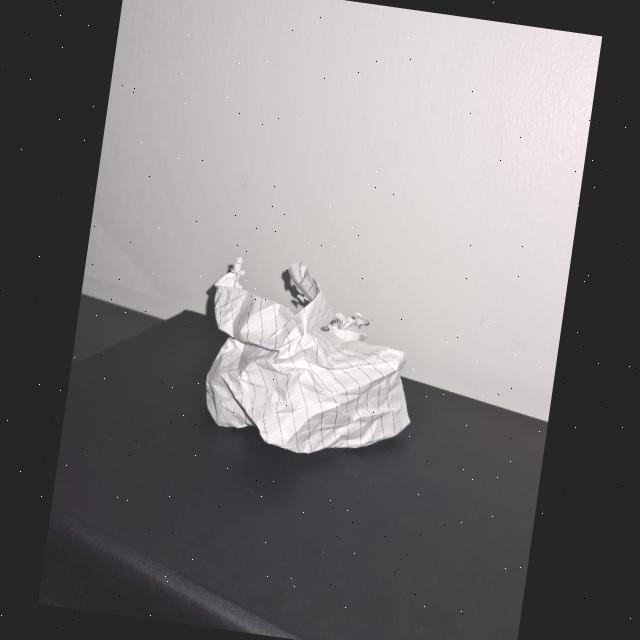trash: (173, 254, 428, 473)
